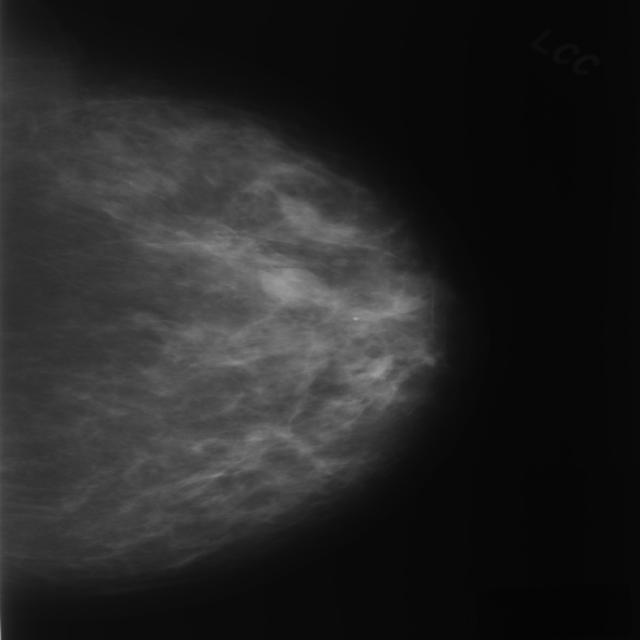tumour: (256, 265, 327, 307)
